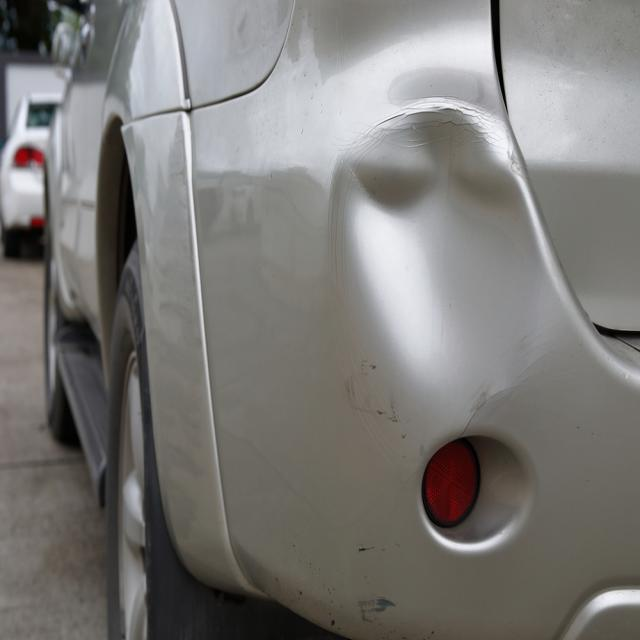dent: (344, 104, 539, 418)
scratch: (352, 539, 397, 634)
